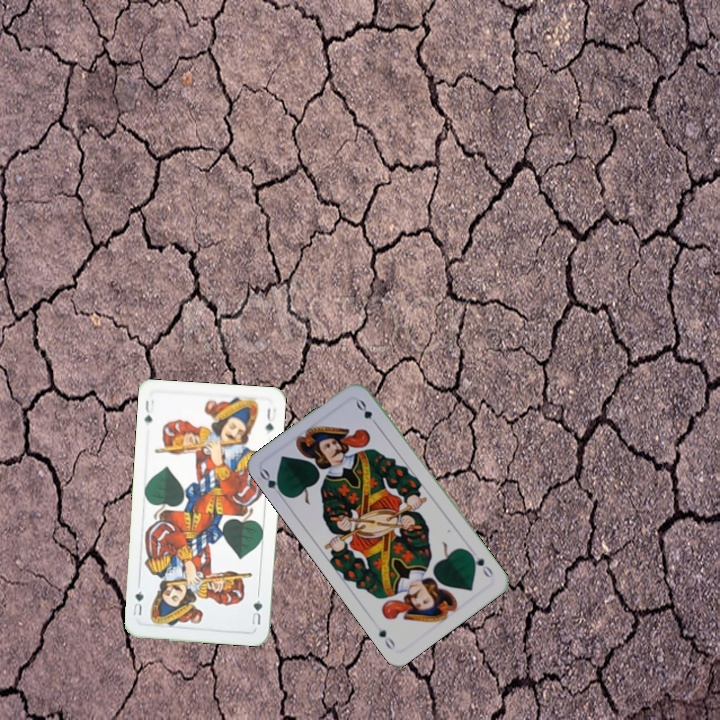GO: (255, 465, 288, 501), (465, 548, 496, 580)
GU: (248, 596, 265, 627), (141, 396, 157, 426)
